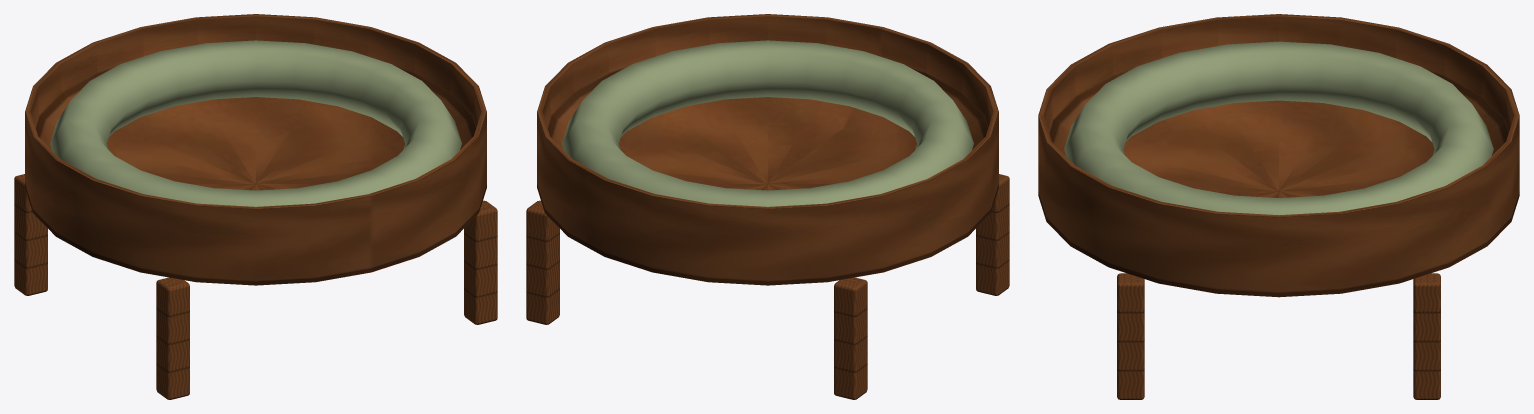
The model's file is creature-husbandry-and-transport-raised-nest-cradle-50a8726f__24003.glb.
3 renders of one model, left to right at view 1: azimuth 30°, elevation 25°; view 2: azimuth 150°, elevation 25°; view 3: azimuth 270°, elevation 25°, orthographic. The views are drawn at different scales.
Parts seen in each view (by area): view 1: raised-nest-cradle; view 2: raised-nest-cradle; view 3: raised-nest-cradle.
Boxes of the visible parts, x1,y1,x2,y2 form: raised-nest-cradle: (14, 14, 497, 399); raised-nest-cradle: (526, 14, 1009, 399); raised-nest-cradle: (1038, 14, 1519, 399).
Bounding box in the file's own units: 1.3 × 0.5999 × 1.3.
2 materials, 1 textured.
